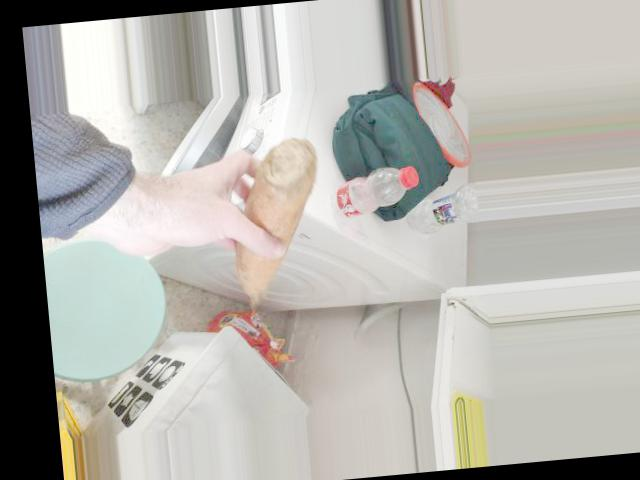sweet_potato: (213, 145, 334, 295)
